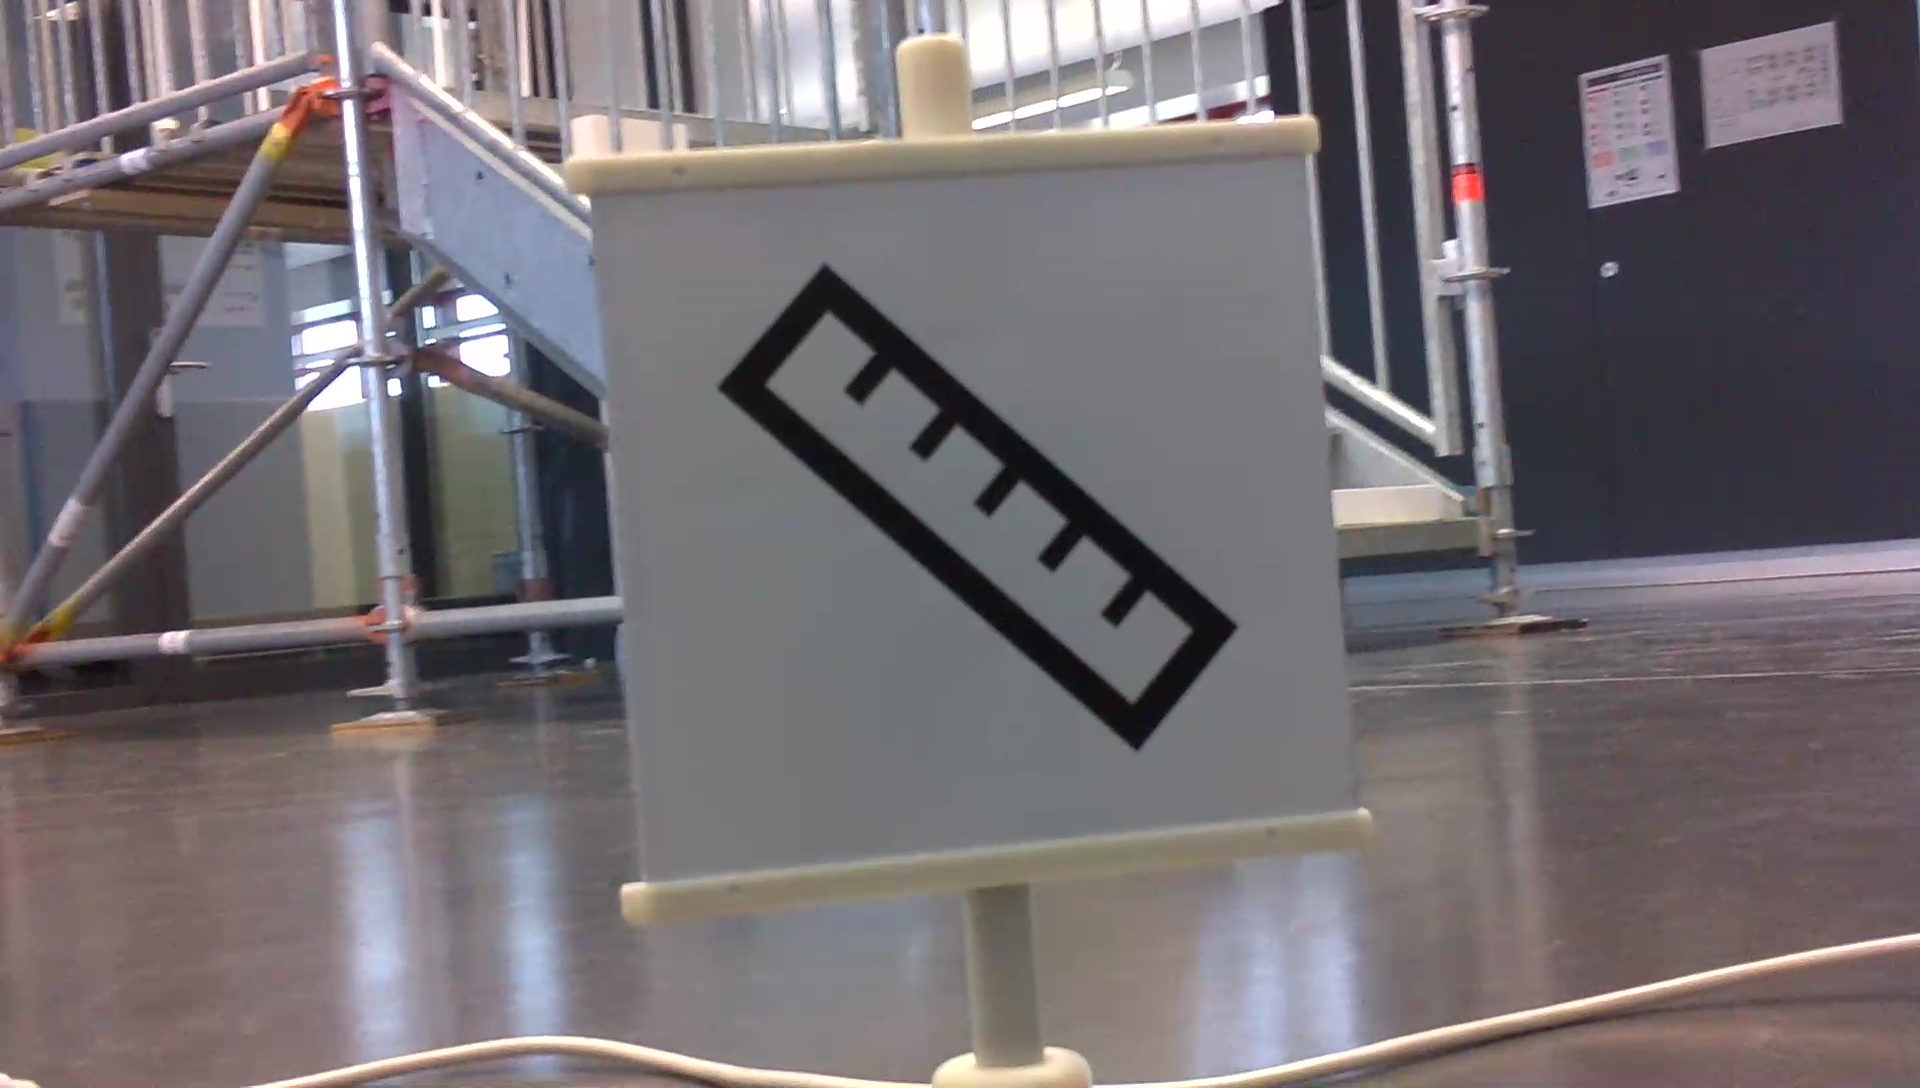brick: (1337, 484, 1433, 524)
ruler: (713, 258, 1238, 750)
